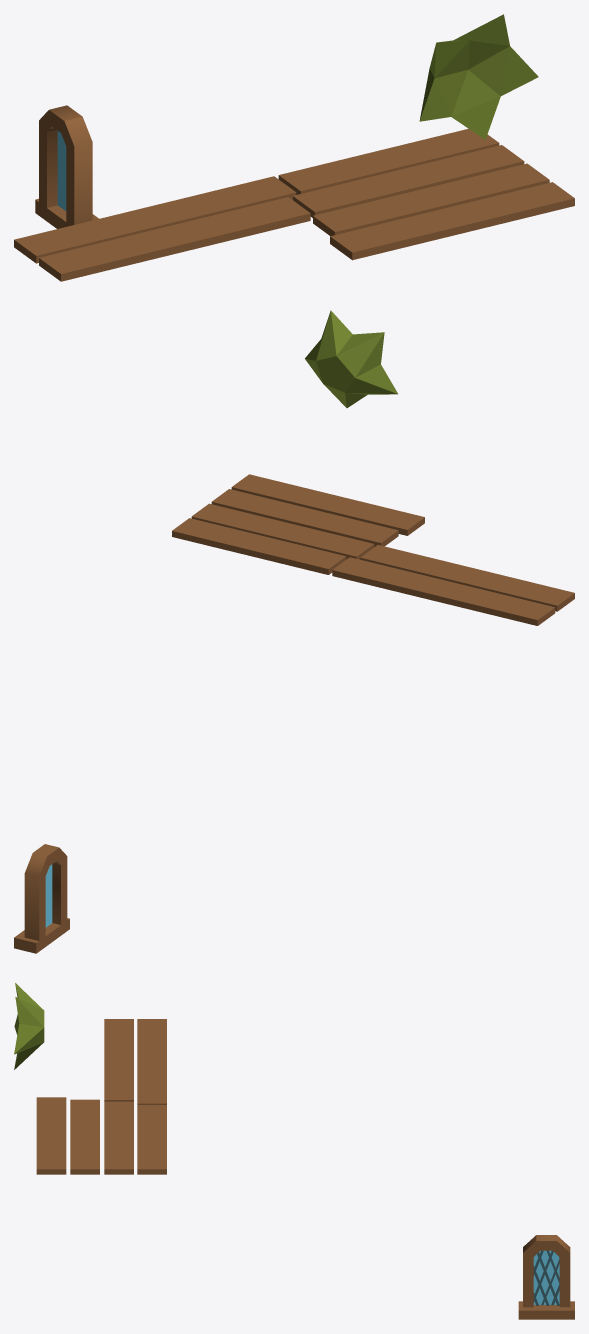
3 renders of one model, top to bottom at view 1: azimuth 30°, elevation 25°; view 2: azimuth 150°, elevation 25°; view 3: azimuth 270°, elevation 25°, orthographic. The views are drawn at different scales.
Visible parts, largest first — view 1: Plane419_brown_0, Box15962_green2_0, Plane407_brown_0, Plane409_mirror_0, Box15686_brown_0; view 2: Plane419_brown_0, Box15962_green2_0, Plane407_brown_0, Box15686_brown_0; view 3: Plane419_brown_0, Plane407_brown_0, Box15962_green2_0, Plane409_mirror_0, Box15686_brown_0, Plane408_metal_0.
Part boxes in pixels (x1,y1,x2,y2): Plane419_brown_0: (14,129,574,281); Box15962_green2_0: (419,14,538,139); Plane407_brown_0: (39,105,92,225); Plane409_mirror_0: (57,131,66,211); Box15686_brown_0: (35,198,98,228); Plane419_brown_0: (172,474,574,625); Box15962_green2_0: (305,310,397,407); Plane407_brown_0: (24,844,67,941); Box15686_brown_0: (14,918,69,953); Plane419_brown_0: (36,1019,166,1174); Plane407_brown_0: (523,1235,570,1307); Box15962_green2_0: (14,983,44,1069); Plane409_mirror_0: (533,1250,559,1304); Box15686_brown_0: (518,1301,574,1319); Plane408_metal_0: (533,1250,559,1305).
Bounding box in the file's own units: 507 × 518 × 799.
